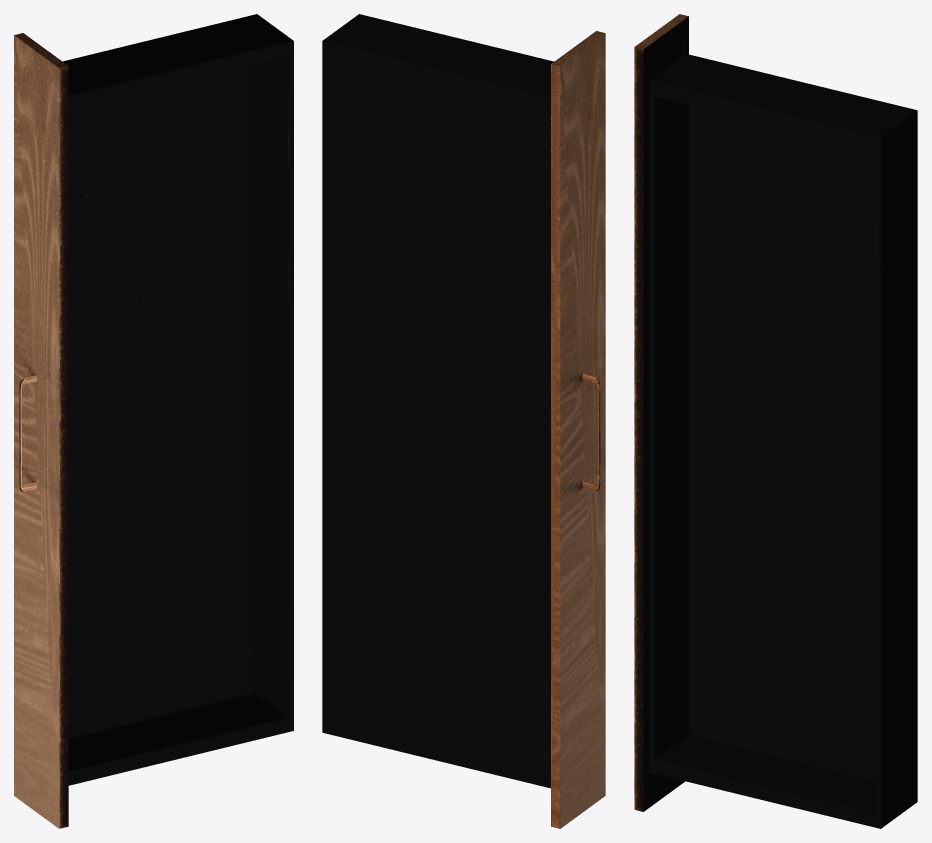
File: free_13_cabinet_floor_dof_rootd_Aa005_t_z_up.obj
3 views of the same model, side by side, from view 1: azimuth 30°, elevation 25°; view 2: azimuth 150°, elevation 25°; view 3: azimuth 330°, elevation 25° (orthographic).
Visible parts, largest first — view 1: free_13_cabinet_floor_dof_rootd_Aa005_t; view 2: free_13_cabinet_floor_dof_rootd_Aa005_t; view 3: free_13_cabinet_floor_dof_rootd_Aa005_t.
Part boxes in pixels (left/top/right/bottom): free_13_cabinet_floor_dof_rootd_Aa005_t: left=14, top=14, right=293, bottom=828; free_13_cabinet_floor_dof_rootd_Aa005_t: left=322, top=14, right=605, bottom=828; free_13_cabinet_floor_dof_rootd_Aa005_t: left=634, top=14, right=917, bottom=828.
Bounding box in the file's own units: 0.582 × 1.64 × 0.1771.
Materials: 1 (1 with a texture image).
